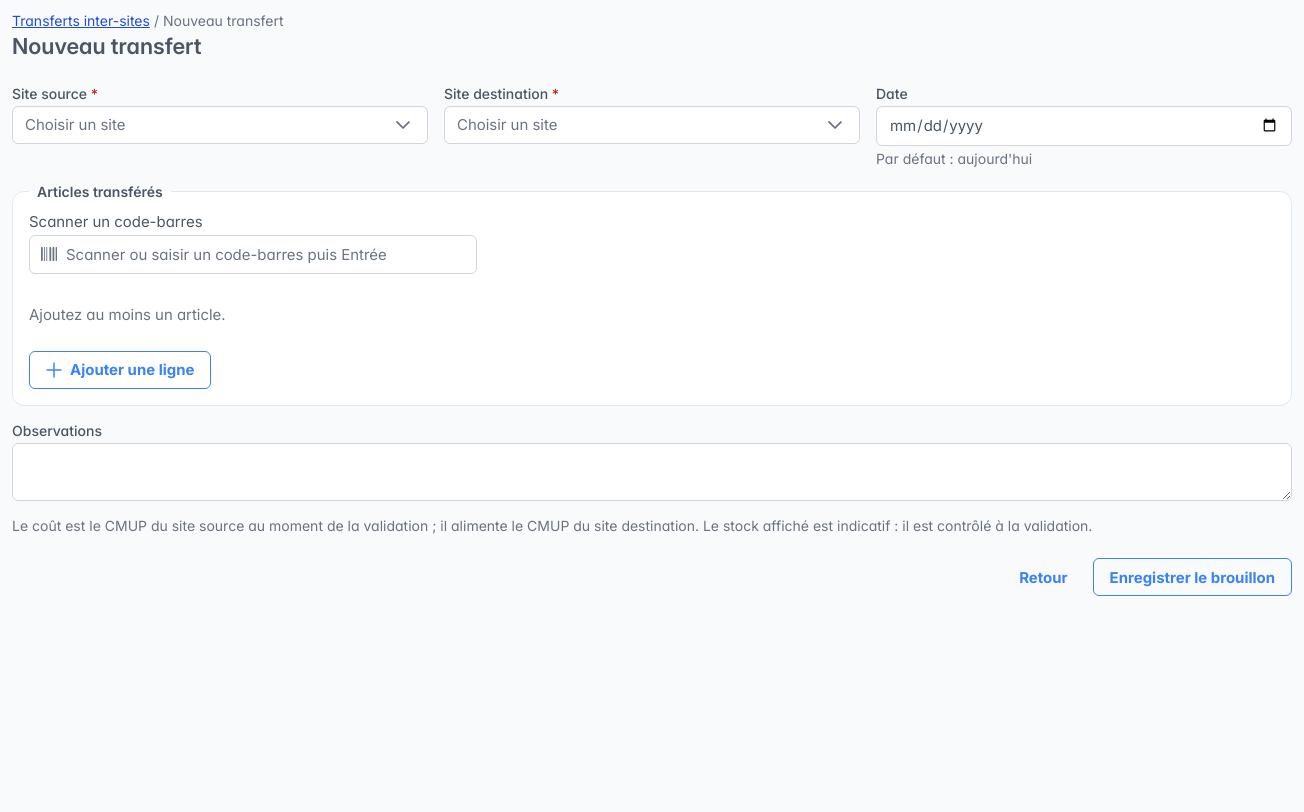
Test case: saisie et consultation d’un transfert › nouveau transfert : sites et articles obligatoires, aucun envoi sinon
Expected: the heading "Nouveau transfert" is shown, [12, 33, 202, 59]
Click the button "Enregistrer le brouillon" at [1192, 577], box [1093, 558, 1292, 596]
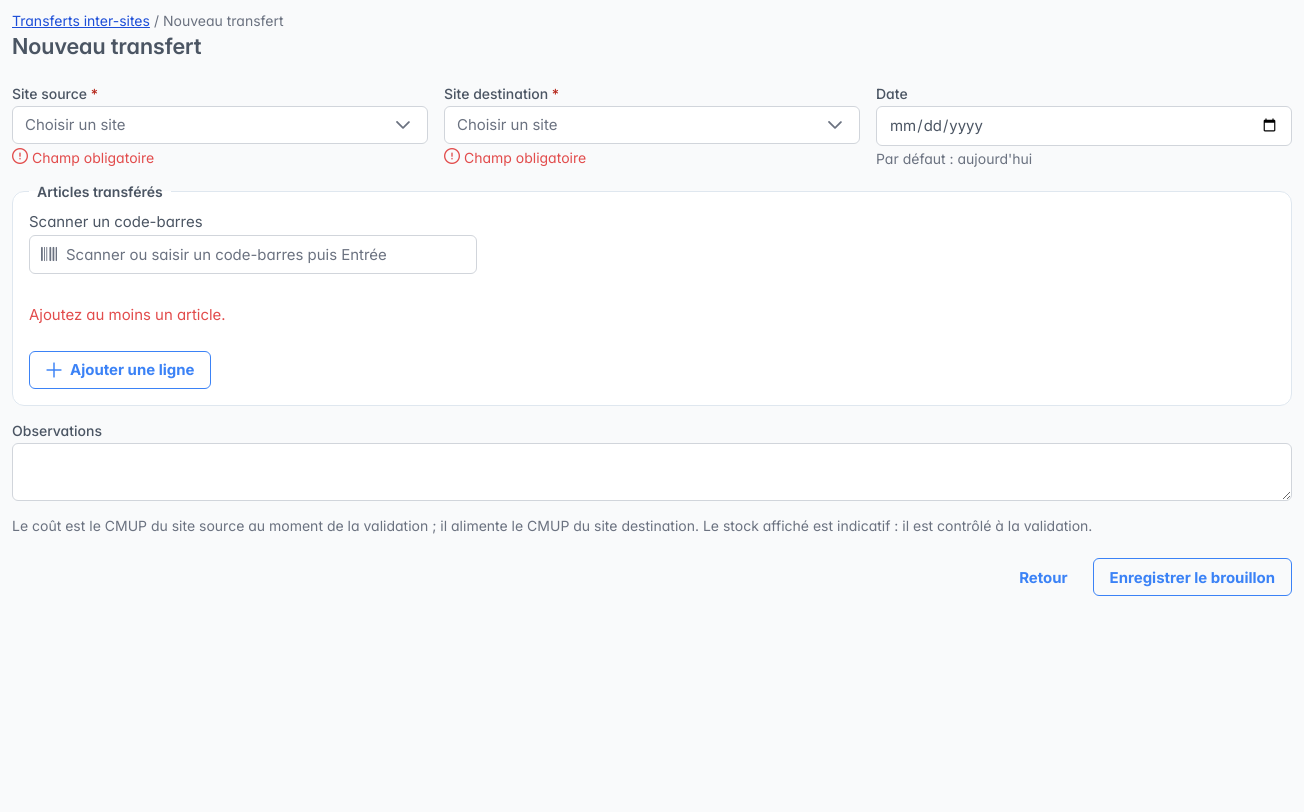
Expected: the text "Champ obligatoire" is shown 2 times, [12, 148, 154, 166]; [444, 148, 586, 166]
Click the button "Ajouter une ligne" at [120, 370], box [29, 351, 211, 389]
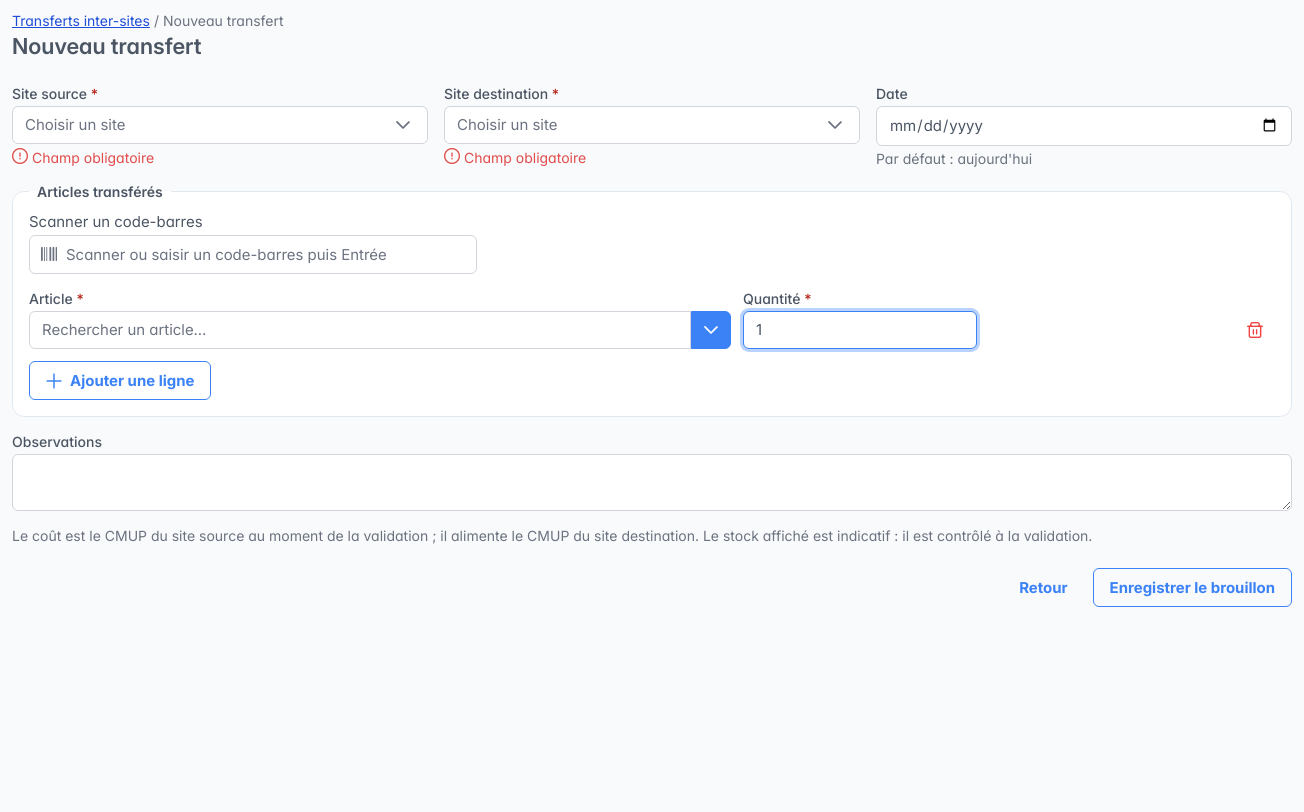
Replace the text in the field labelled "Quantité *" with "0" at [860, 330], box [743, 311, 977, 349]
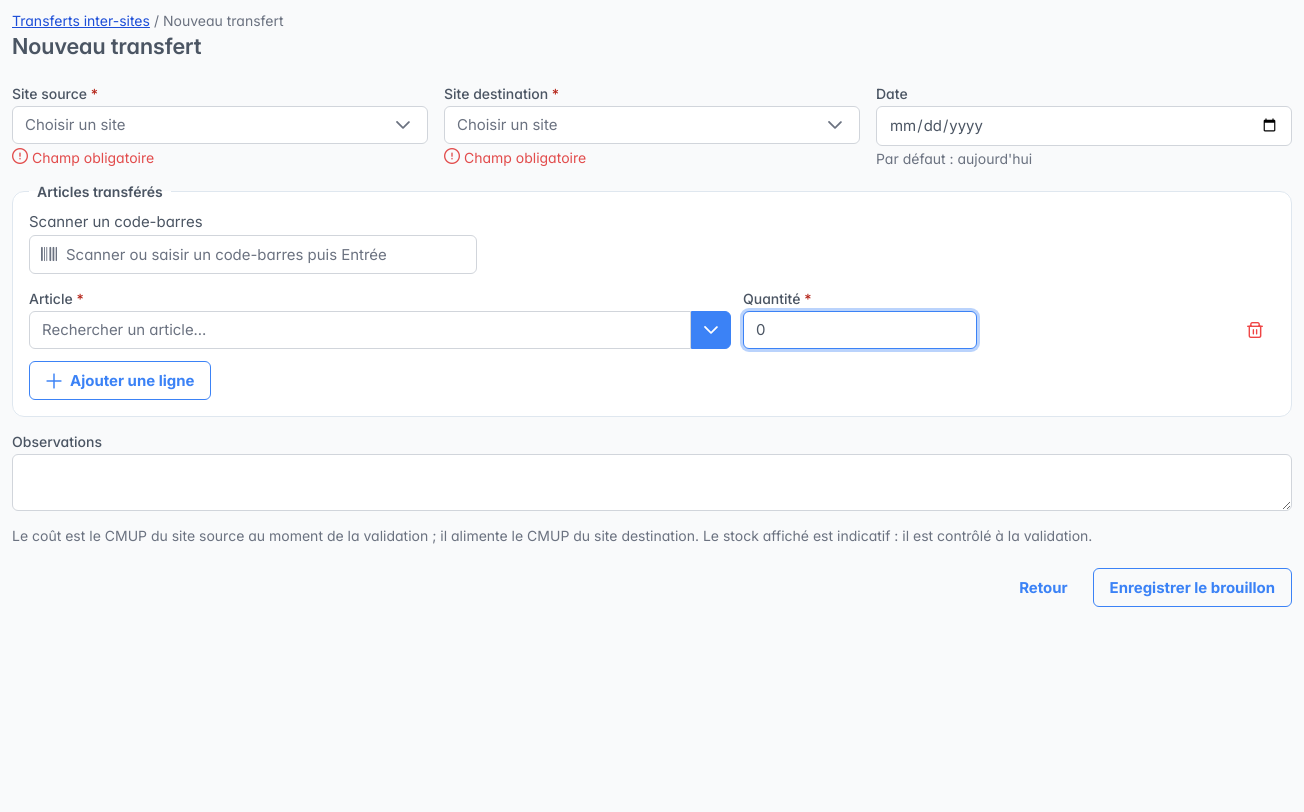
Click the button "Enregistrer le brouillon" at [1192, 588], box [1093, 568, 1292, 607]
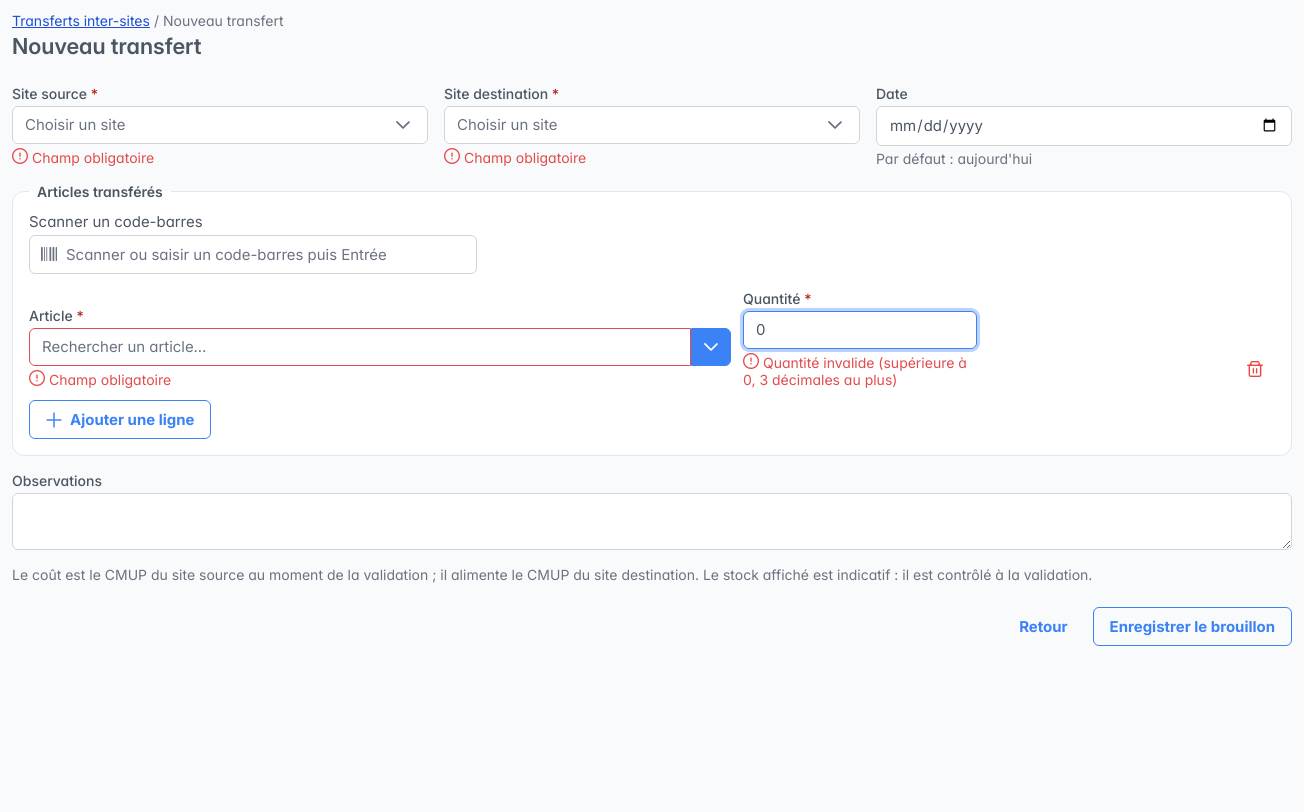
Expected: the text "Quantité invalide (supérieure à 0, 3 décimales au plus)" is shown, [743, 353, 977, 388]
